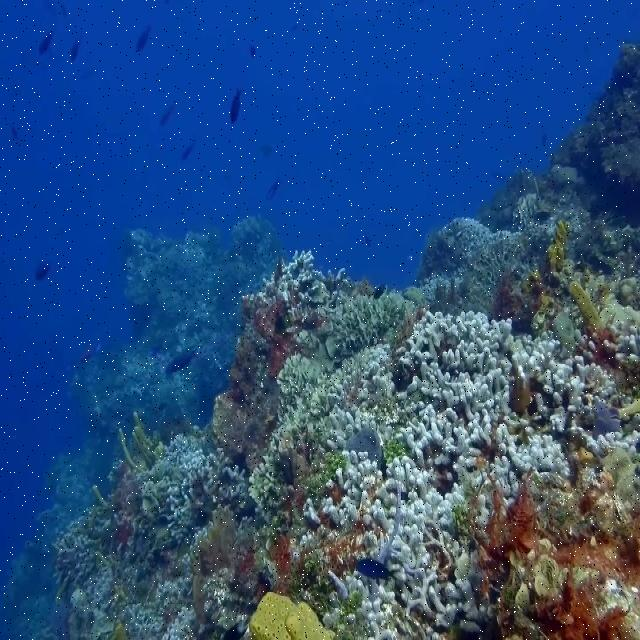fish: (356, 558, 400, 579)
reefs: (304, 310, 633, 636), (420, 188, 590, 314), (248, 592, 333, 639)
